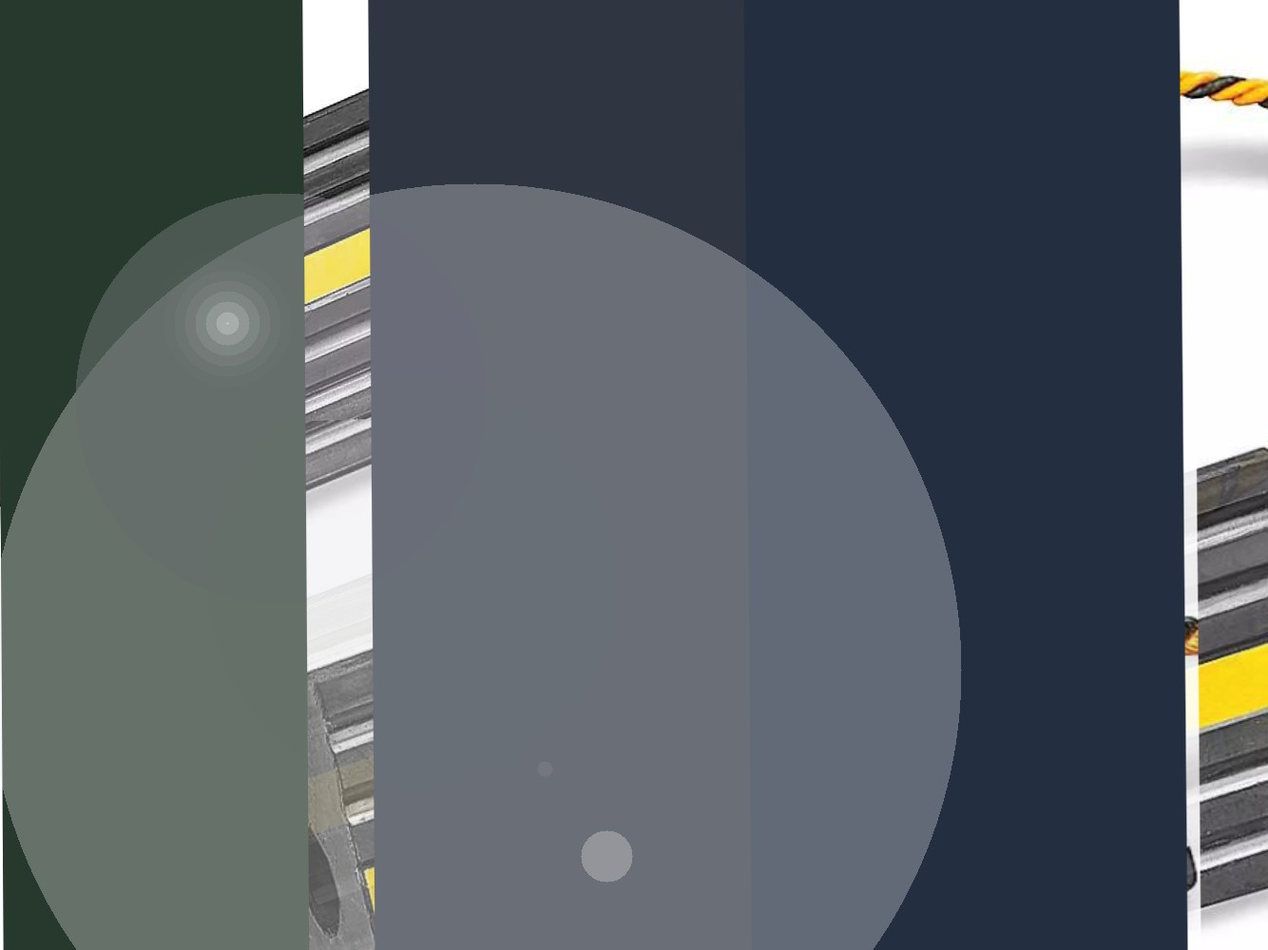chock: (224, 389, 1204, 950), (176, 386, 954, 950), (510, 439, 1268, 950), (0, 61, 489, 564)
